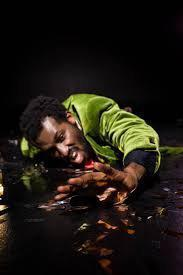Drunk: (34, 116, 86, 164)
